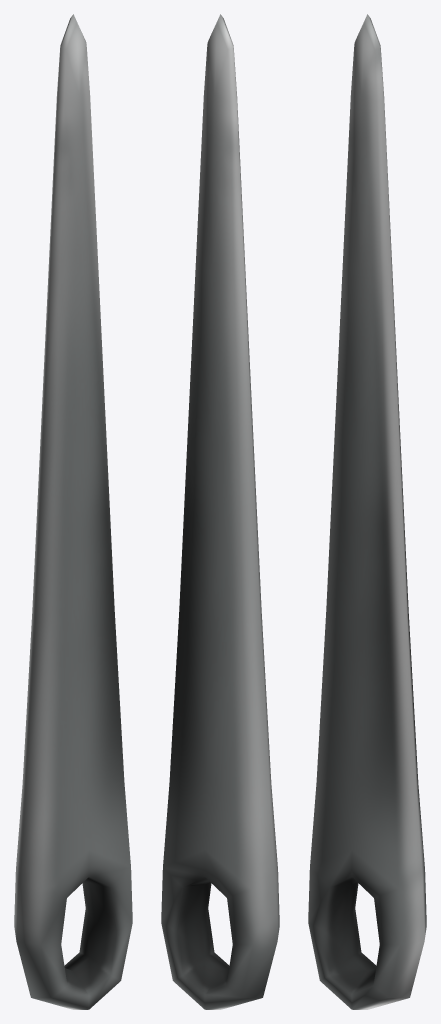
The model's file is BO_Sin1_Needle.FBX.
3 renders of one model, left to right at view 1: azimuth 30°, elevation 25°; view 2: azimuth 150°, elevation 25°; view 3: azimuth 330°, elevation 25°, orthographic.
Parts seen in each view (by area): view 1: BO_Sin1_Needle; view 2: BO_Sin1_Needle; view 3: BO_Sin1_Needle.
Boxes of the visible parts, x1,y1,x2,y2 form: BO_Sin1_Needle: (14, 14, 132, 1009); BO_Sin1_Needle: (161, 14, 279, 1009); BO_Sin1_Needle: (308, 14, 426, 1009).
Size of the model in its own units: 4.19 by 34.96 by 1.99.
